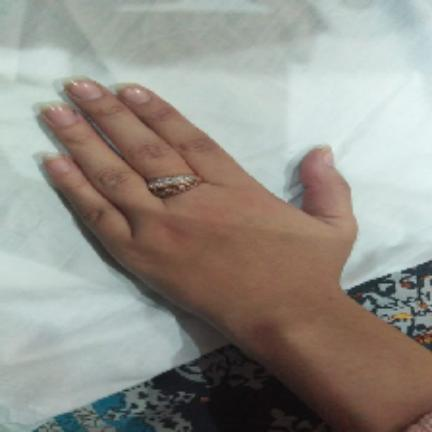Nail: (37, 100, 77, 127), (62, 75, 102, 100), (117, 82, 150, 105), (45, 155, 68, 172), (322, 146, 333, 167)
